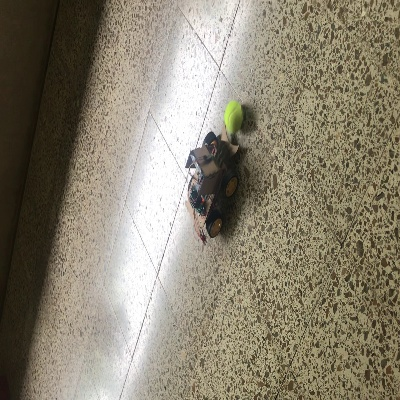Ball: (222, 101, 243, 132)
Robot: (182, 131, 239, 238)
